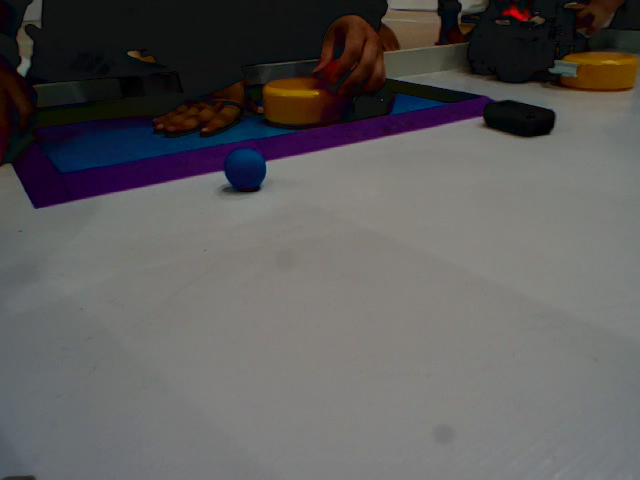black: (476, 100, 571, 153)
blue: (220, 150, 271, 200)
kuang: (6, 68, 501, 220)
yellow: (252, 75, 387, 127), (553, 37, 640, 95)
